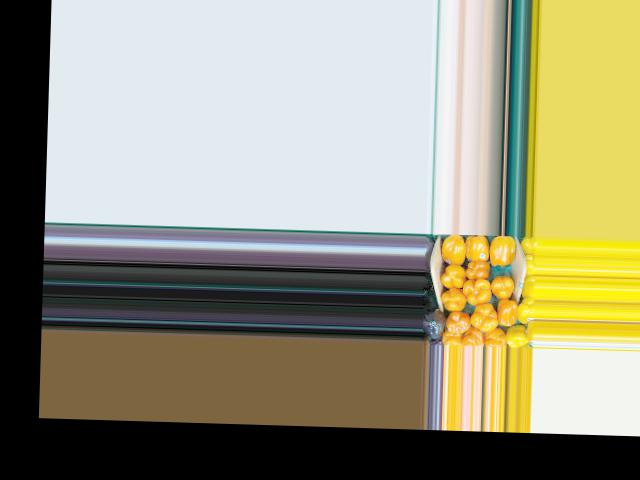bell_pepper: (517, 293, 532, 325)
